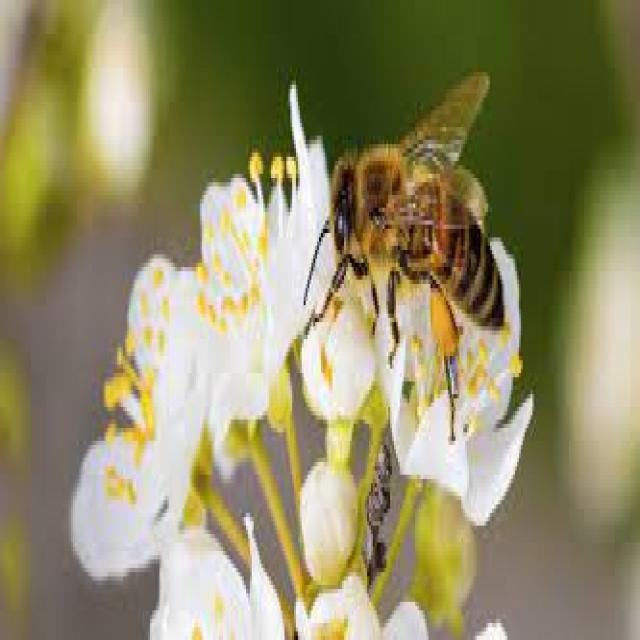Bees: (304, 71, 506, 453)
